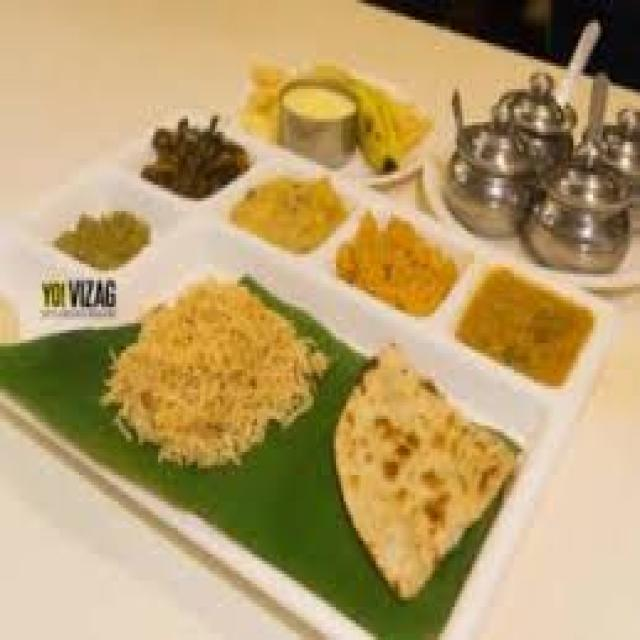dal: (233, 167, 352, 255)
rice: (106, 267, 313, 472)
roti: (332, 361, 511, 571)
sambar-rasam: (460, 254, 592, 395)
veg: (338, 202, 454, 319)
